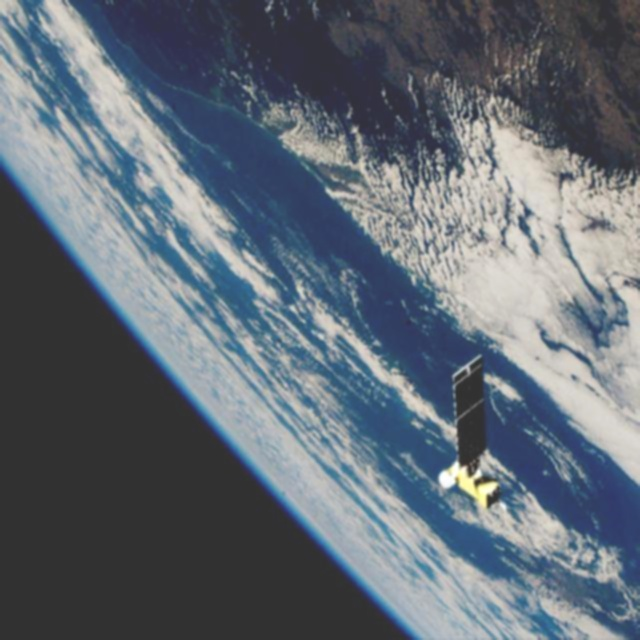satellite: (435, 345, 507, 531)
